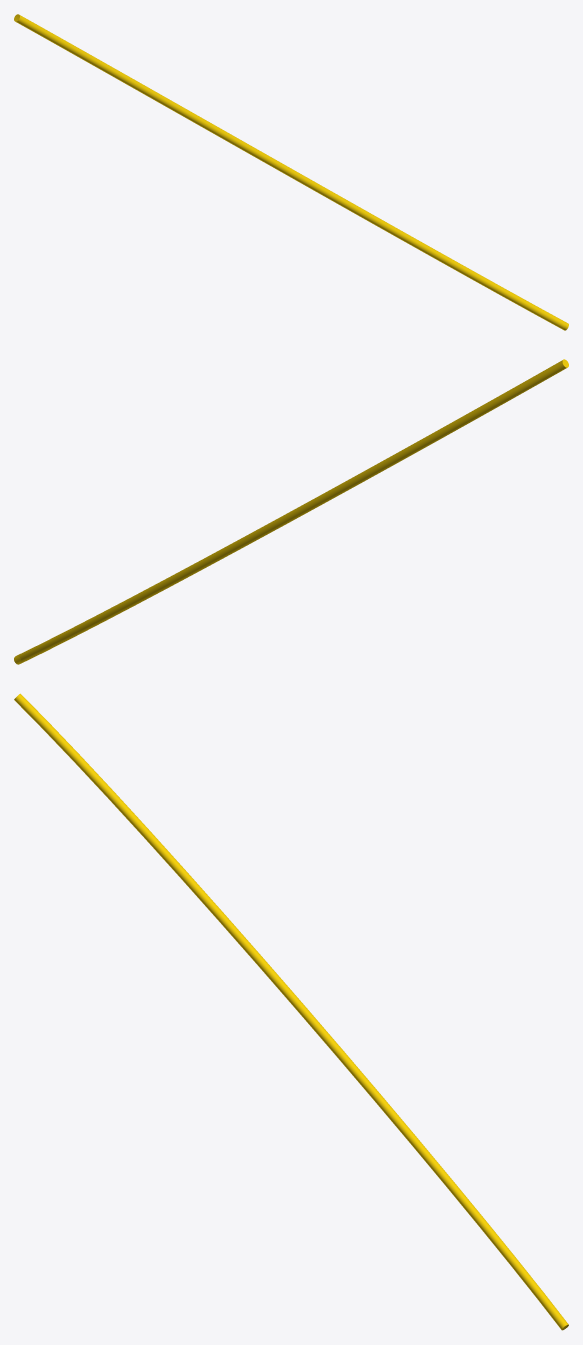
Rendered from Event_420604493_track_8.fbx.
The picture shows the model from 3 angles, top to bottom: view 1: azimuth 30°, elevation 25°; view 2: azimuth 150°, elevation 25°; view 3: azimuth 330°, elevation 25°; orthographic projection. The views are drawn at different scales.
Visible parts, largest first — view 1: Model; view 2: Model; view 3: Model.
Boxes of the visible parts, bbox=[...] form: Model: bbox=[14, 14, 568, 330]; Model: bbox=[14, 359, 568, 664]; Model: bbox=[14, 693, 568, 1330].
Size of the model in its own units: 2.98 by 2.28 by 0.3455.
